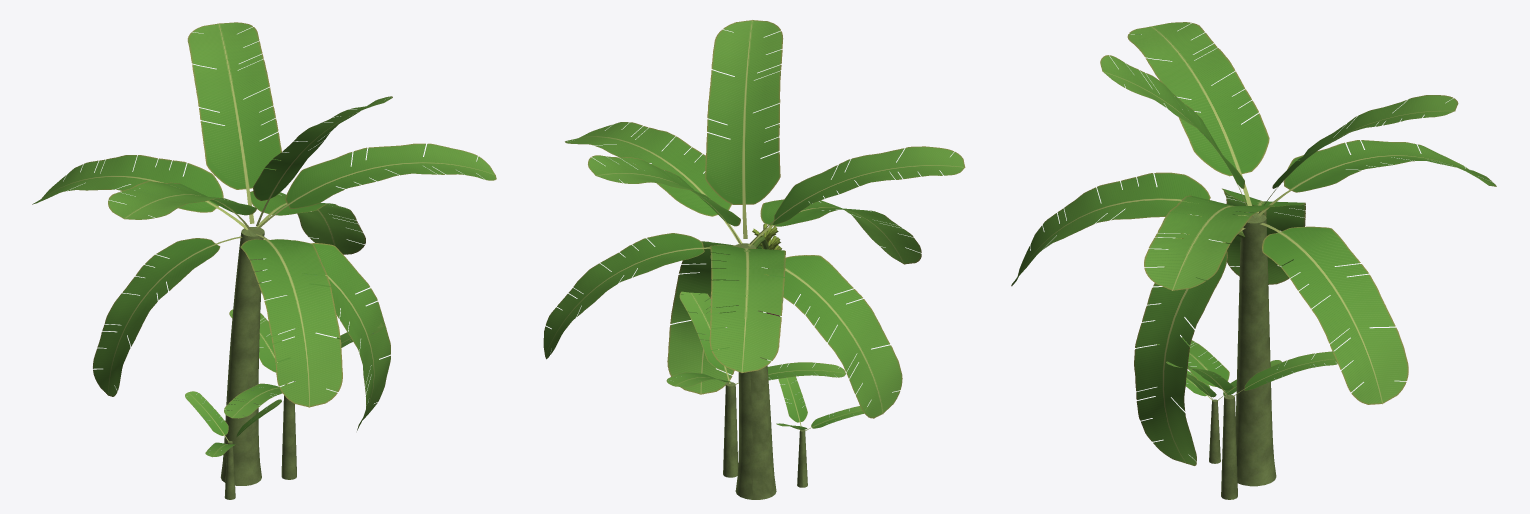
Rendered from banana-plant.glb.
3 views of the same model, side by side, from view 1: azimuth 30°, elevation 25°; view 2: azimuth 150°, elevation 25°; view 3: azimuth 270°, elevation 25° (orthographic). The views are drawn at different scales.
Visible parts, largest first — view 1: Banana_Plant; view 2: Banana_Plant; view 3: Banana_Plant.
Part boxes in pixels (x1,y1,x2,y2): Banana_Plant: (32, 22, 496, 499); Banana_Plant: (543, 20, 965, 499); Banana_Plant: (1011, 22, 1496, 499).
Bounding box in the file's own units: 4.28 × 4.12 × 4.23.
5 materials, 2 textured.
